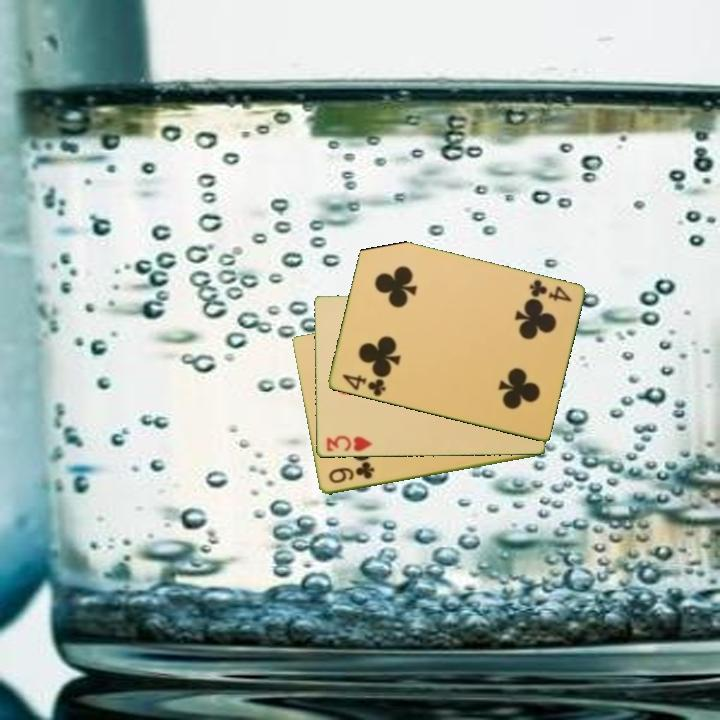3h: (323, 432, 374, 455)
4c: (525, 276, 574, 305), (338, 371, 388, 399)
9c: (325, 460, 377, 487)
